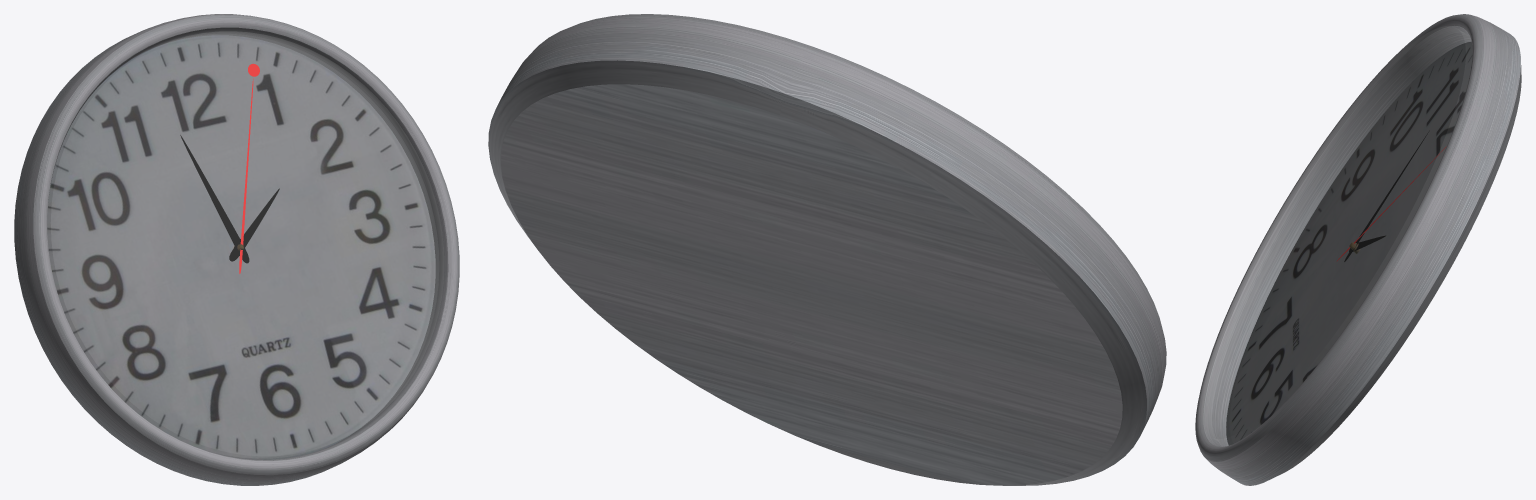
Rendered from reloj_tiempo.glb.
3 renders of one model, left to right at view 1: azimuth 30°, elevation 25°; view 2: azimuth 150°, elevation 25°; view 3: azimuth 270°, elevation 25°, orthographic. The views are drawn at different scales.
Visible parts, largest first — view 1: Circle.016, Circle.000; view 2: Circle.016; view 3: Circle.016, Circle.000.
Part boxes in pixels (left/top/right/bottom): Circle.016: left=14, top=14, right=459, bottom=485; Circle.000: left=48, top=32, right=443, bottom=458; Circle.016: left=488, top=14, right=1166, bottom=485; Circle.016: left=1195, top=14, right=1521, bottom=485; Circle.000: left=1202, top=26, right=1471, bottom=444.
Bounding box in the file's own units: 0.3129 × 0.2725 × 0.1948.
Materials: 5 (3 with a texture image).
